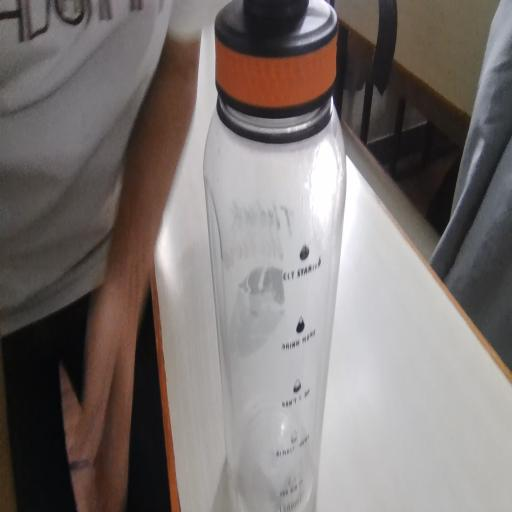Bottle: (208, 0, 359, 474)
